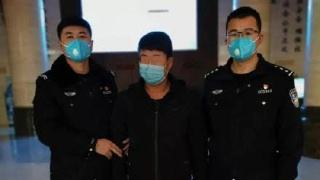Mask: (225, 18, 260, 60), (59, 25, 94, 63), (137, 49, 171, 87)
